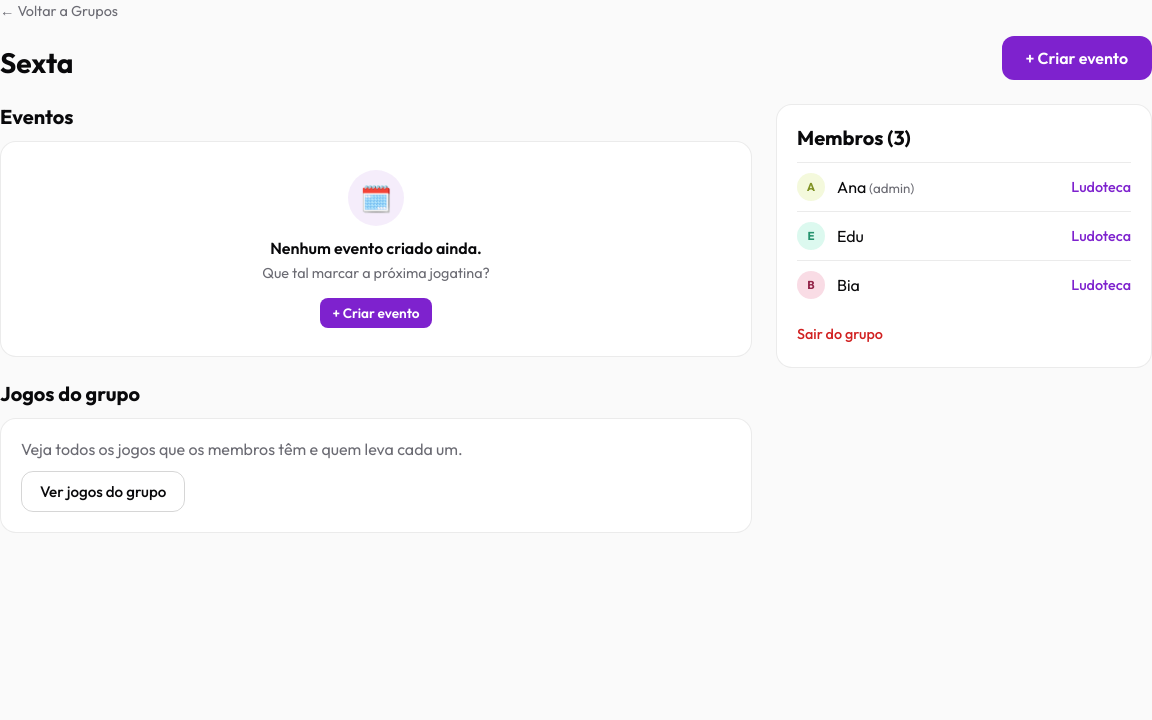
Test case: Grupo — carregamento e estados vazios › sem eventos, o estado vazio oferece criar o primeiro e abre o formulário
The width and height of the screenshot is (1152, 720).
expect the heading "Sexta" is shown: met, box x1=0 y1=46 x2=73 y2=80
What coordinates should you click on to do the following:
click the button "+ Criar evento" below "Que tal marcar a próxima jogatina?"
I would click on:
 (376, 313)
Its box is x1=320 y1=298 x2=432 y2=328.
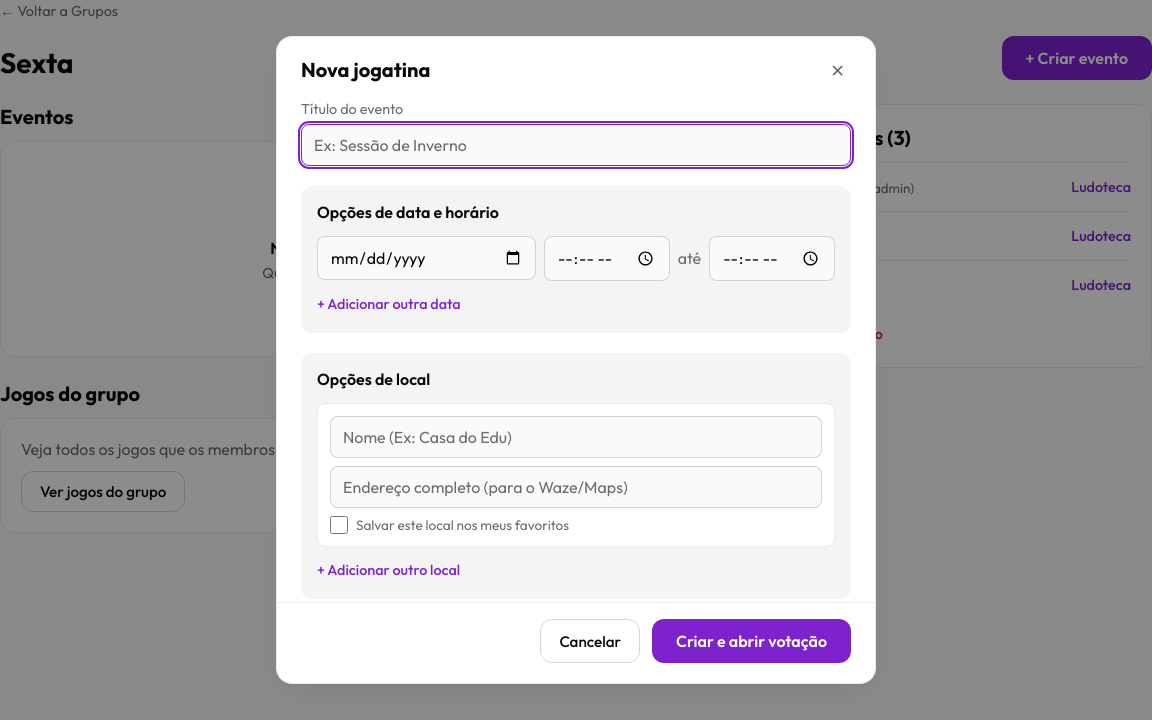
expect the dialog is shown: met, box x1=276 y1=36 x2=876 y2=684
